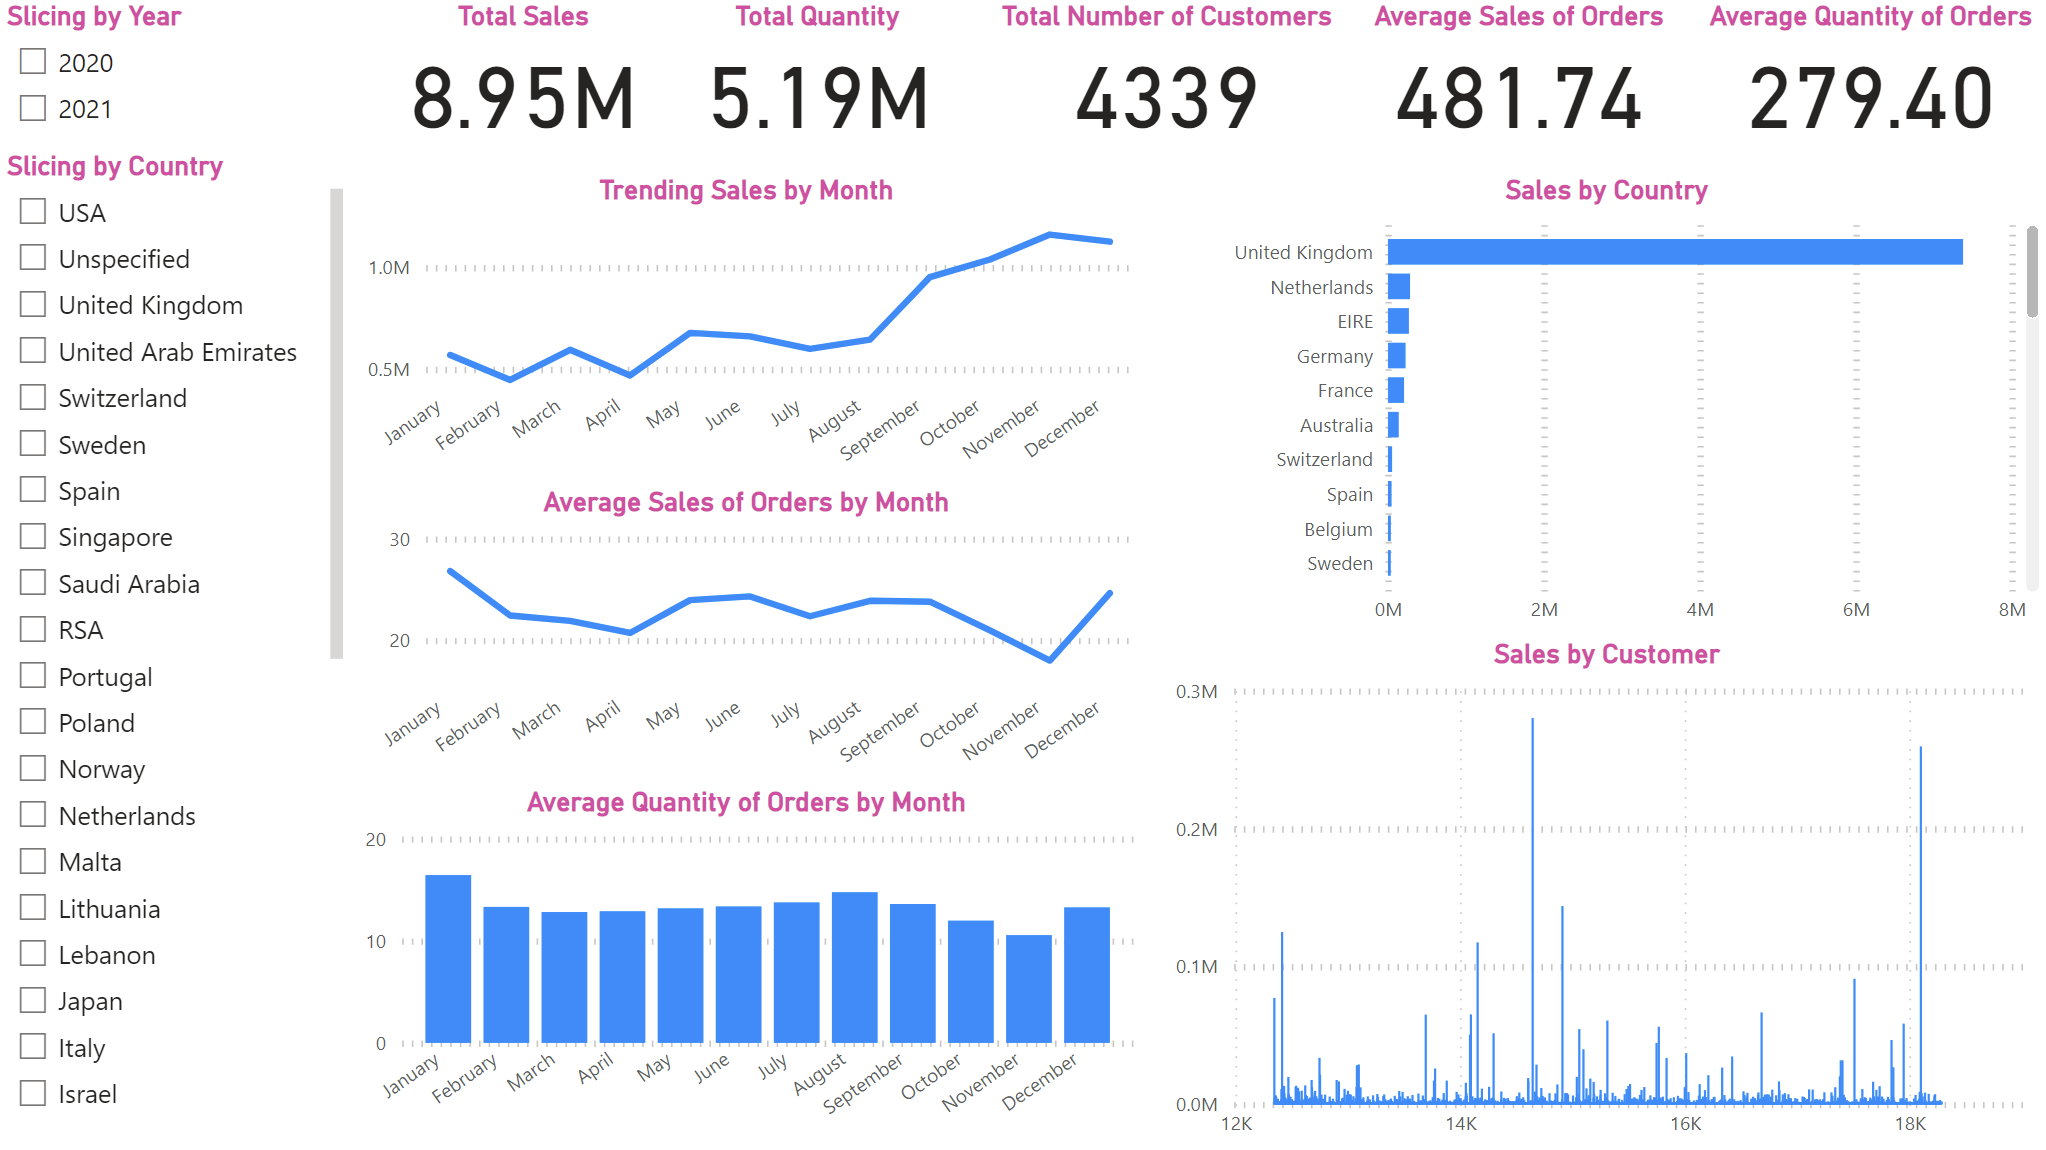

This screenshot's page, from the dashboard's own definition file:
{"tool":"powerbi","page":{"name":"Overview","canvas":[1280,720],"ordinal":0},"visuals":[{"type":"card","title":"Total Sales","fields":{"Values":["Sum(Table_DAX.Total_Sales)"]},"box":[250,0,155.7,88.6],"z":0},{"type":"card","title":"Total Quantity","fields":{"Values":["Sum(Table_DAX.Total_Quantity)"]},"box":[434.3,0,155.7,88.6],"z":1000},{"type":"card","title":"Total Number of Customers","fields":{"Values":["Sum(Table_DAX.Total_Number_of_Customers)"]},"box":[620,0,220,88.6],"z":2000},{"type":"card","title":"Average Sales of Orders","fields":{"Values":["Sum(Table_DAX.Average_Sales_of_Orders)"]},"box":[840,0,220,88.6],"z":3000},{"type":"card","title":"Average Quantity of Orders","fields":{"Values":["Sum(Table_DAX.Average_Quantity_of_Orders)"]},"box":[1060,0,220,88.6],"z":4000},{"type":"lineChart","title":"Trending Sales by Month","fields":{"Category":["eCommerce_Sales_Dataset_Sale_Transaction.InvoiceDate.Variation.Date Hierarchy.Month"],"Y":["Sum(eCommerce_Sales_Dataset_Sale_Transaction.Total_Price)"]},"box":[220,108.6,494.3,195.7],"z":5000},{"type":"lineChart","title":"Average Sales of Orders by Month","fields":{"Category":["eCommerce_Sales_Dataset_Sale_Transaction.InvoiceDate.Variation.Date Hierarchy.Month"],"Y":["Avg(eCommerce_Sales_Dataset_Sale_Transaction.Total_Price)"]},"box":[220,304.3,494.3,187.1],"z":6000},{"type":"clusteredColumnChart","title":"Average Quantity of Orders by Month","fields":{"Category":["eCommerce_Sales_Dataset_Sale_Transaction.InvoiceDate.Variation.Date Hierarchy.Month"],"Y":["Avg(eCommerce_Sales_Dataset_Sale_Transaction.Quantity)"]},"box":[220,491.4,494.3,228.6],"z":7000},{"type":"clusteredBarChart","title":"Sales by Country","fields":{"Category":["eCommerce_Sales_Dataset_Cus_Info.Country"],"Y":["Sum(eCommerce_Sales_Dataset_Sale_Transaction.Total_Price)"]},"box":[730,108.8,550,290],"z":8000},{"type":"clusteredColumnChart","title":"Sales by Customer","fields":{"Category":["eCommerce_Sales_Dataset_Sale_Transaction.CustomerID"],"Y":["Sum(eCommerce_Sales_Dataset_Sale_Transaction.Total_Price)"]},"box":[730,398.6,550,321.4],"z":9000},{"type":"slicer","title":"Slicing by Year","fields":{"Values":["eCommerce_Sales_Dataset_Sale_Transaction.InvoiceDate.Variation.Date Hierarchy.Year"]},"box":[0,0,220,94.3],"z":10000},{"type":"slicer","title":"Slicing by Country","fields":{"Values":["eCommerce_Sales_Dataset_Cus_Info.Country"]},"box":[0,93.8,220,613.8],"z":11000}]}

Visuals, with their boxes in screenshot pixels (x1, y1, x2, y2), scaled from the page's 1280x720 canvas onto the 2046x1150 screenshot:
"Total Sales" card: bbox=[400, 0, 648, 142]
"Total Quantity" card: bbox=[694, 0, 943, 142]
"Total Number of Customers" card: bbox=[991, 0, 1343, 142]
"Average Sales of Orders" card: bbox=[1343, 0, 1694, 142]
"Average Quantity of Orders" card: bbox=[1694, 0, 2045, 142]
"Trending Sales by Month" lineChart: bbox=[352, 173, 1142, 486]
"Average Sales of Orders by Month" lineChart: bbox=[352, 486, 1142, 785]
"Average Quantity of Orders by Month" clusteredColumnChart: bbox=[352, 785, 1142, 1149]
"Sales by Country" clusteredBarChart: bbox=[1167, 174, 2045, 637]
"Sales by Customer" clusteredColumnChart: bbox=[1167, 637, 2045, 1149]
"Slicing by Year" slicer: bbox=[0, 0, 352, 151]
"Slicing by Country" slicer: bbox=[0, 150, 352, 1130]
